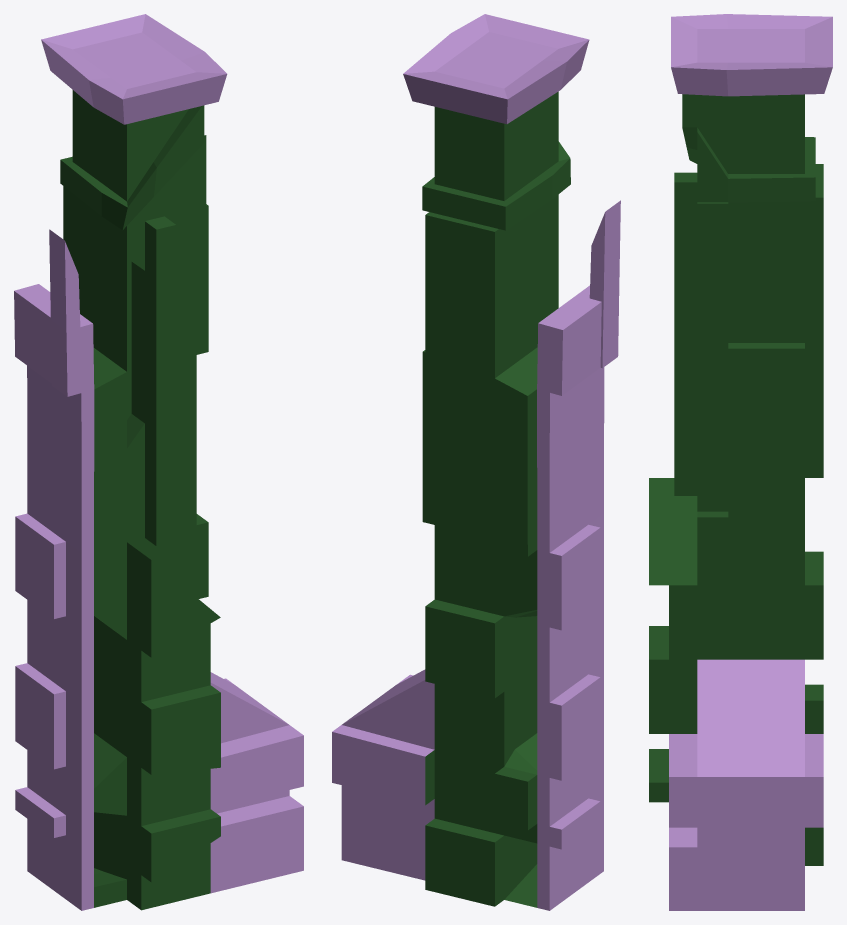
3 views of the same model, side by side, from view 1: azimuth 30°, elevation 25°; view 2: azimuth 150°, elevation 25°; view 3: azimuth 270°, elevation 25° (orthographic).
Parts seen in each view (by area): view 1: Box005; view 2: Box005; view 3: Box005.
Boxes of the visible parts, x1,y1,x2,y2 form: Box005: (14,14,303,910); Box005: (332,14,620,910); Box005: (649,14,832,910).
Size of the model in its own units: 56.87 by 197 by 40.65.
